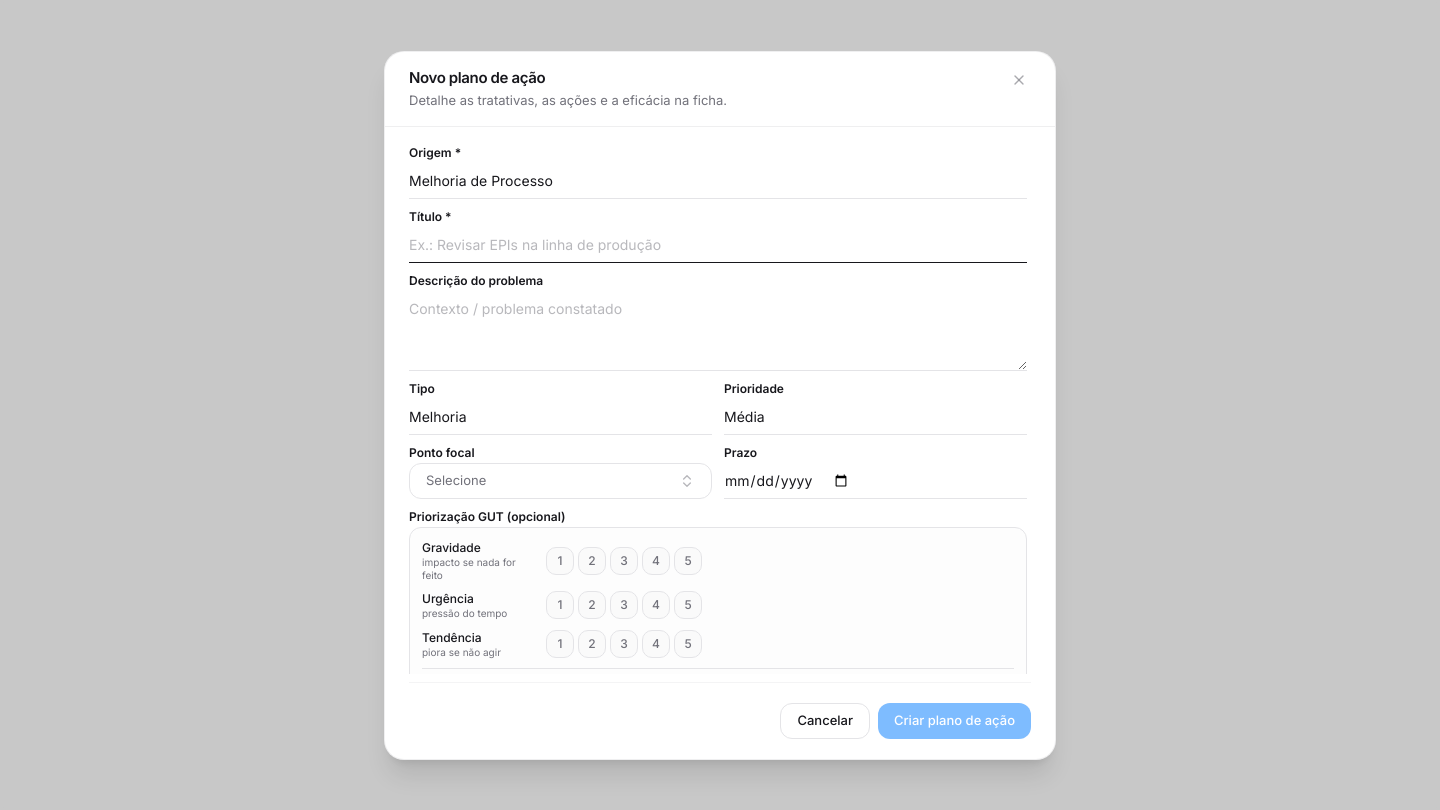
Test case: NovaAcaoDialog — criado dentro do módulo (sem origem imposta) › trocar a origem para Corretiva sugere o Tipo Corretiva
Select "Corretiva" in the dropdown labelled "Origem *" at (718, 181), box [409,163,1027,199]
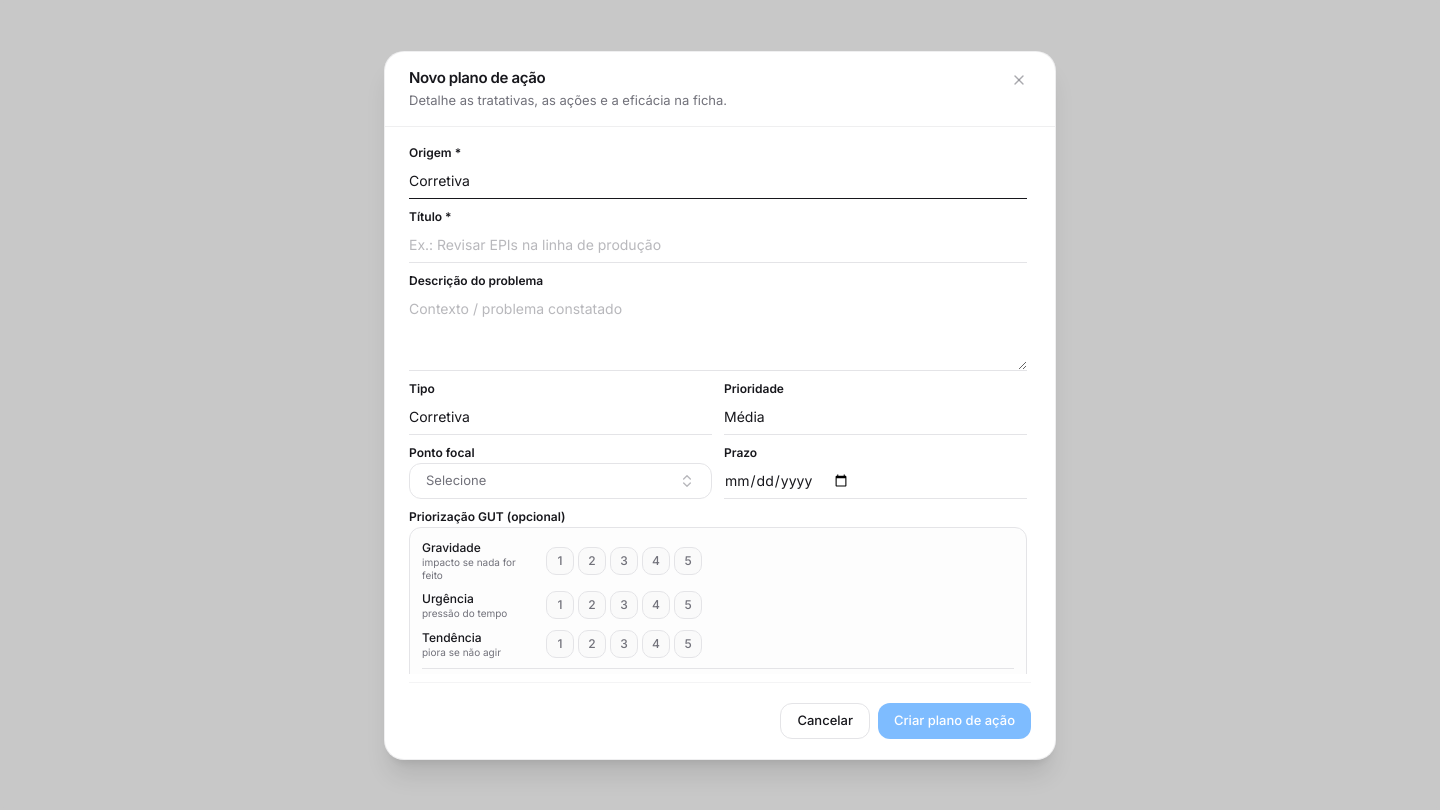
Result: the dropdown labelled "Tipo" shows "Corretiva" at [409,399,712,435]
